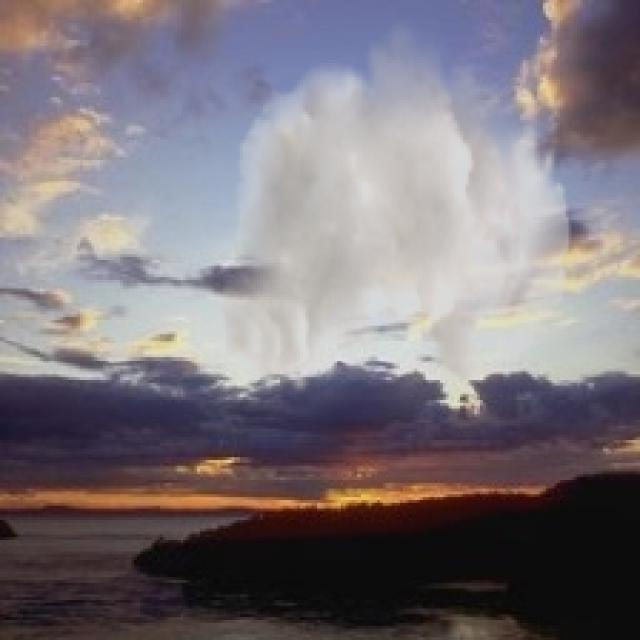Smoke: (219, 14, 572, 394)
